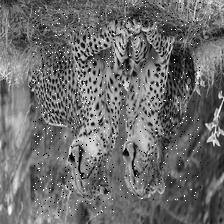Cheetha: (32, 9, 114, 216), (118, 0, 201, 200)
